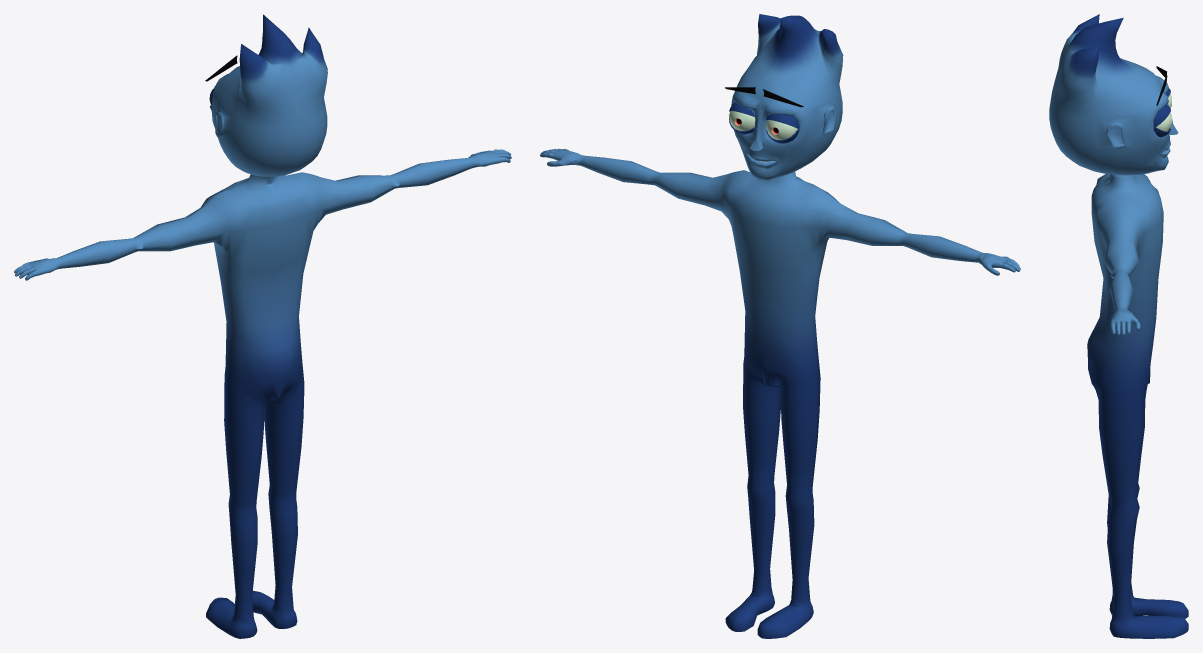
The model's file is alien.obj.
The picture shows the model from 3 angles, left to right: view 1: azimuth 30°, elevation 25°; view 2: azimuth 150°, elevation 25°; view 3: azimuth 270°, elevation 25°; orthographic projection. The views are drawn at different scales.
Parts seen in each view (by area): view 1: Body; view 2: Body; view 3: Body, Upper_eyelid_L.
Part boxes in pixels (x1,y1,x2,y2): Body: (14,14,511,638); Body: (540,14,1020,638); Body: (1049,14,1188,638); Upper_eyelid_L: (1153,104,1170,127).
Size of the model in its own units: 0.00267 by 0.00316 by 0.000659.
